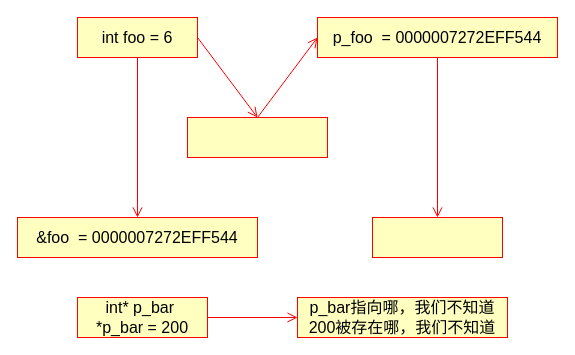
Image size: 575x355. Some labels were removed from this diagram. Here are the shapes that lost their labels. From the top down, the centre of each, then its label:
At (x=257, y=137): "int* p_foo = &foo".
At (x=437, y=237): "*p_foo = 6".
